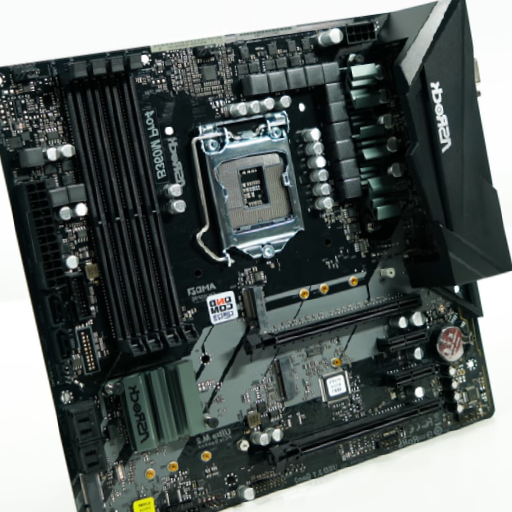CPU: (199, 111, 306, 260)
GPU: (271, 397, 443, 476), (243, 292, 422, 354)
MOTHERBOARD: (2, 1, 495, 512)
RAM: (57, 54, 200, 357)
SSD: (241, 285, 270, 327), (274, 357, 297, 401)
